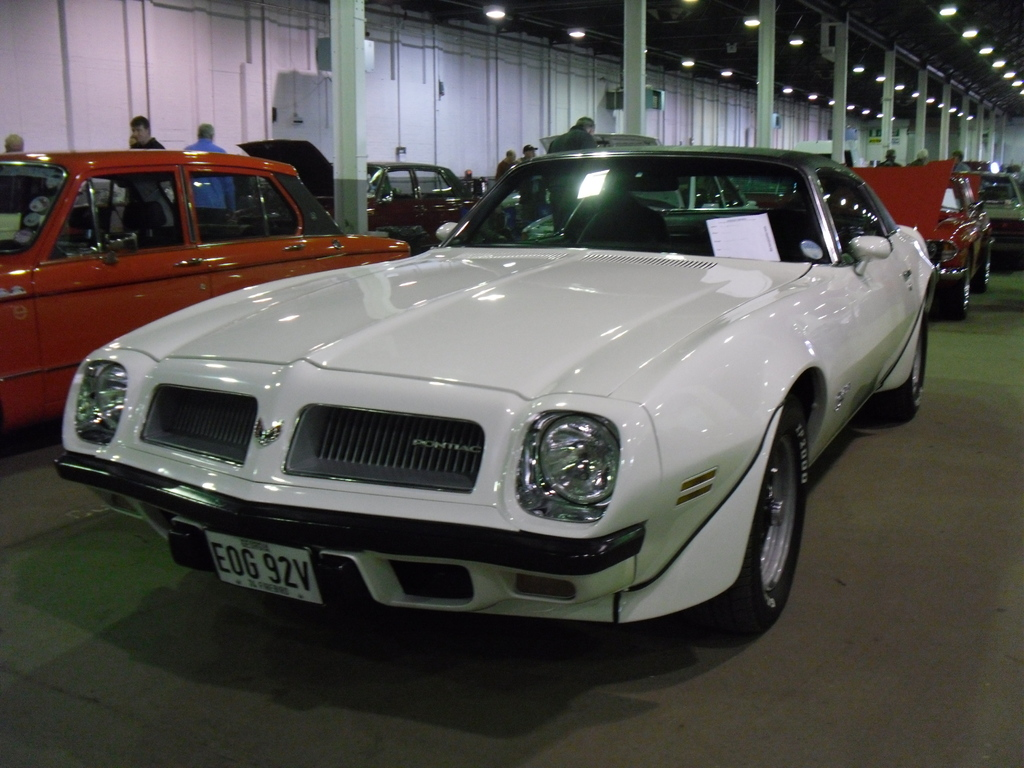person: (562, 165, 675, 252)
